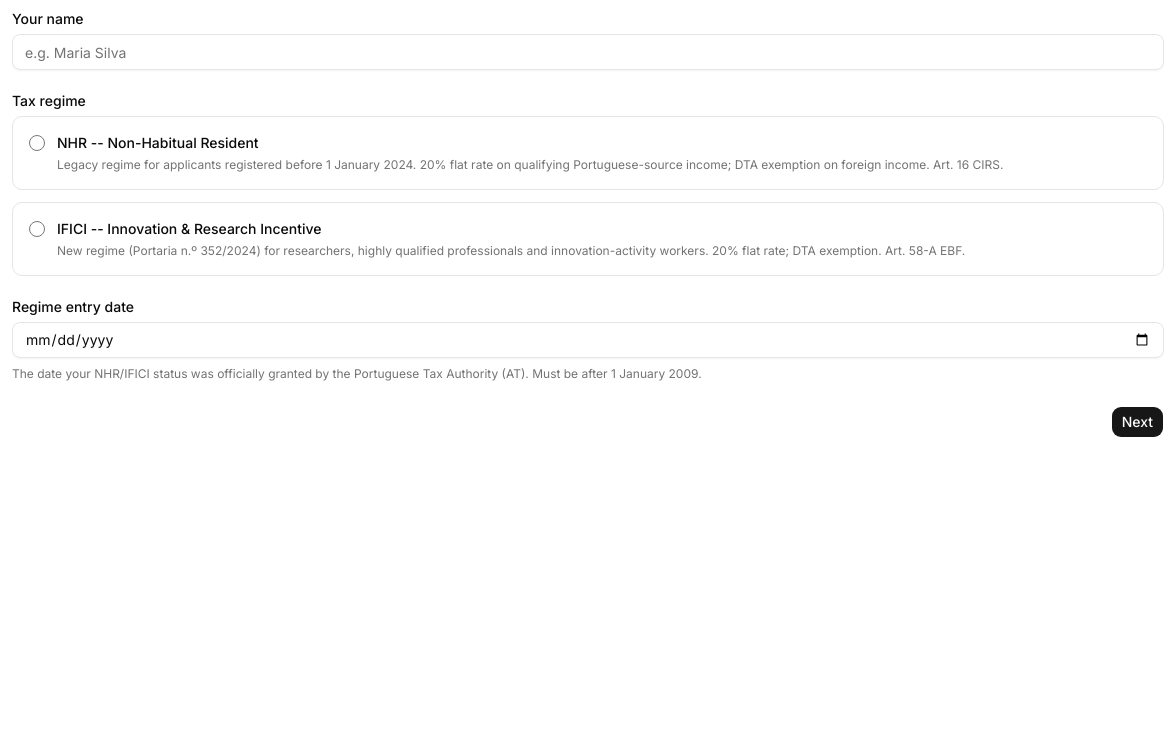
Test: Step1Regime › shows validation error for a date before 2009
The width and height of the screenshot is (1176, 732).
Type "Test User" into the field labelled "Your name". click: coordinates (588, 52)
box: [12,34,1164,70]
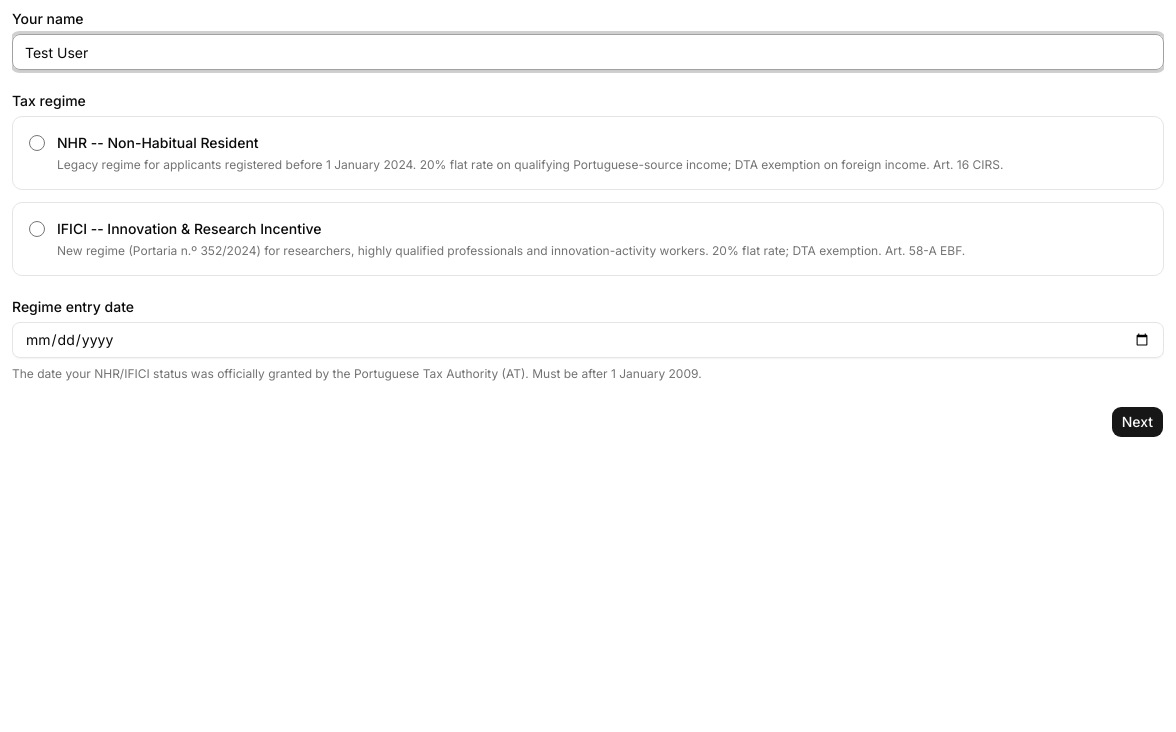
Click the text "NHR -- Non-Habitual Resident". click: coordinates (158, 142)
box: [57,134,259,151]
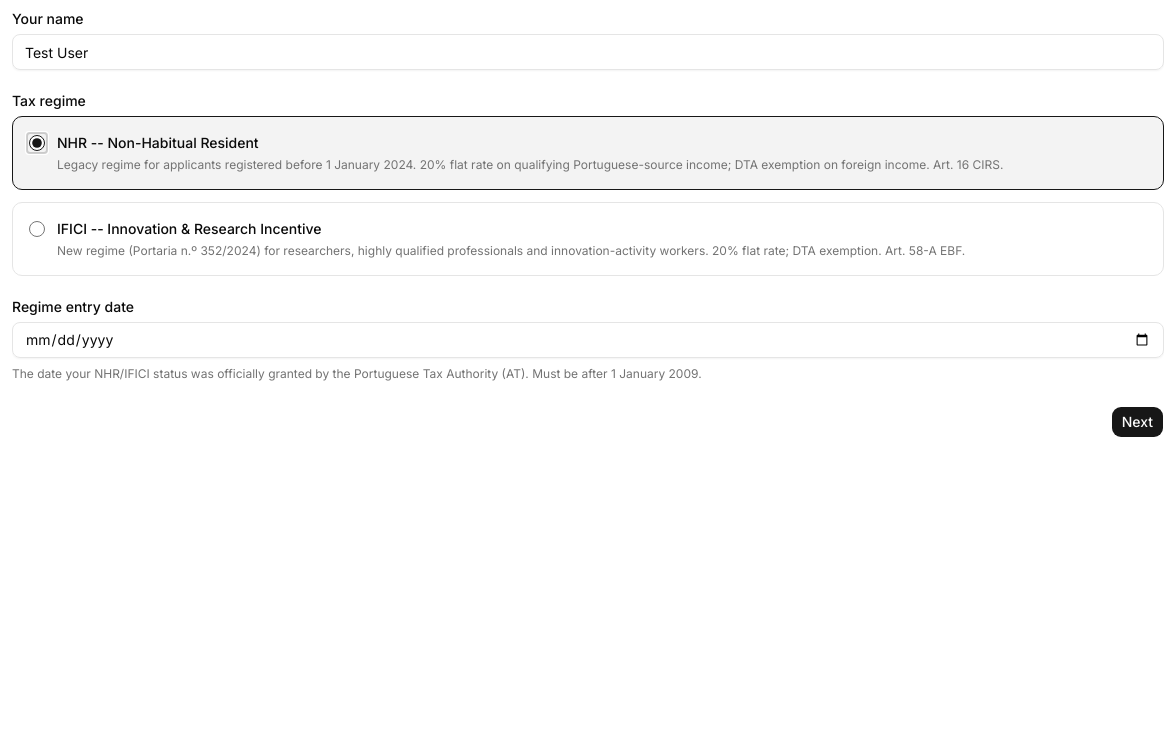
Type "2005-01-01" into the date field labelled "Regime entry date". click: coordinates (588, 340)
box: [12,322,1164,358]
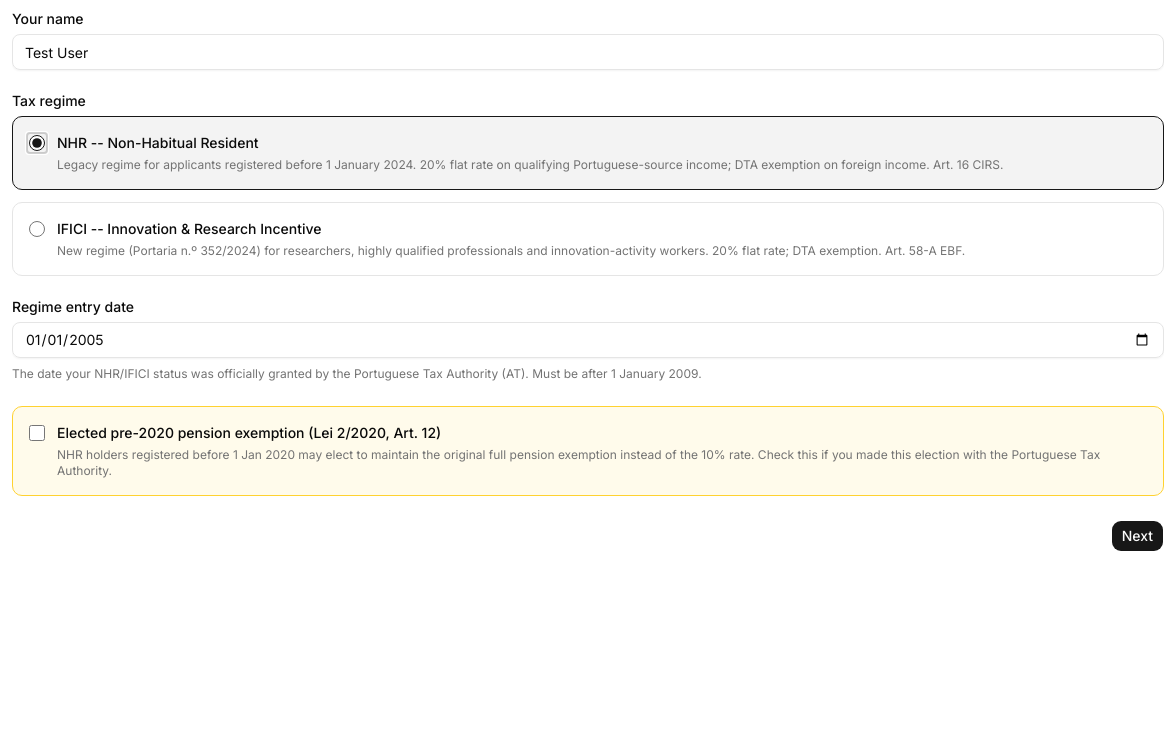
Click the button "Next". click: coordinates (1137, 536)
box: [1111,520,1164,552]
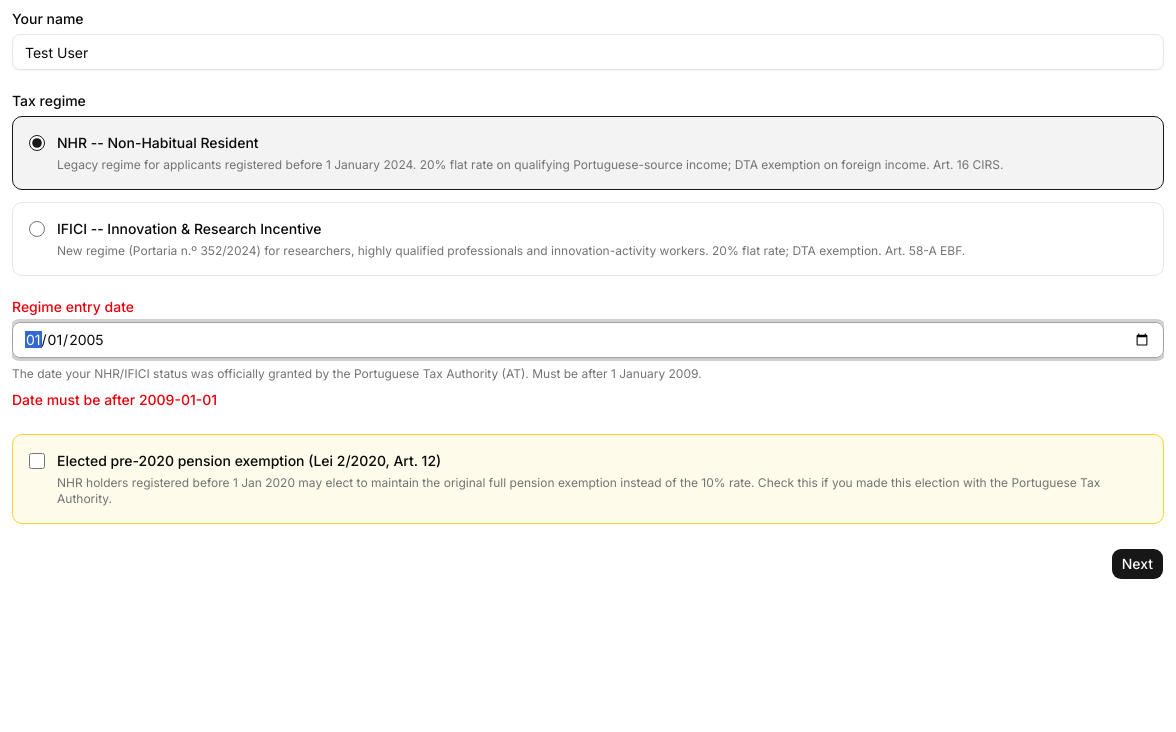
Expected: the text "Date must be after 2009-01-01" is shown, [12,391,217,408]
